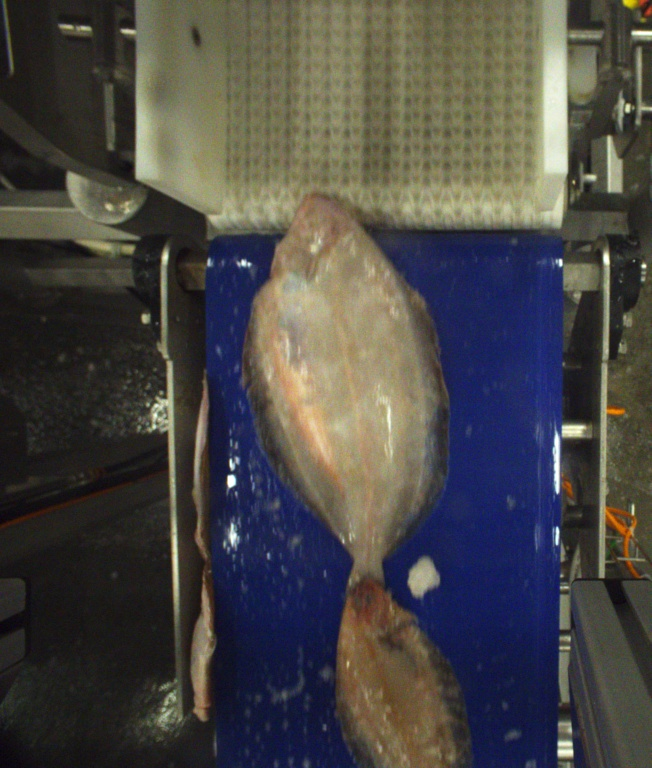WIT: (238, 181, 447, 588)
